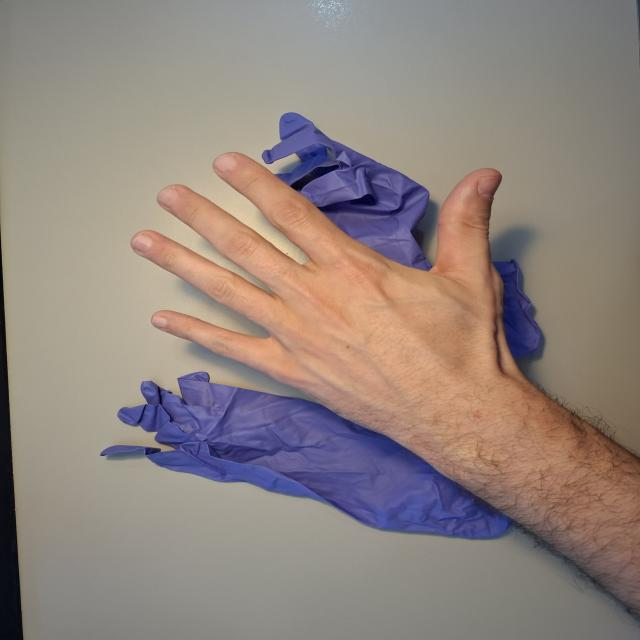glove_off: (127, 148, 573, 445)
